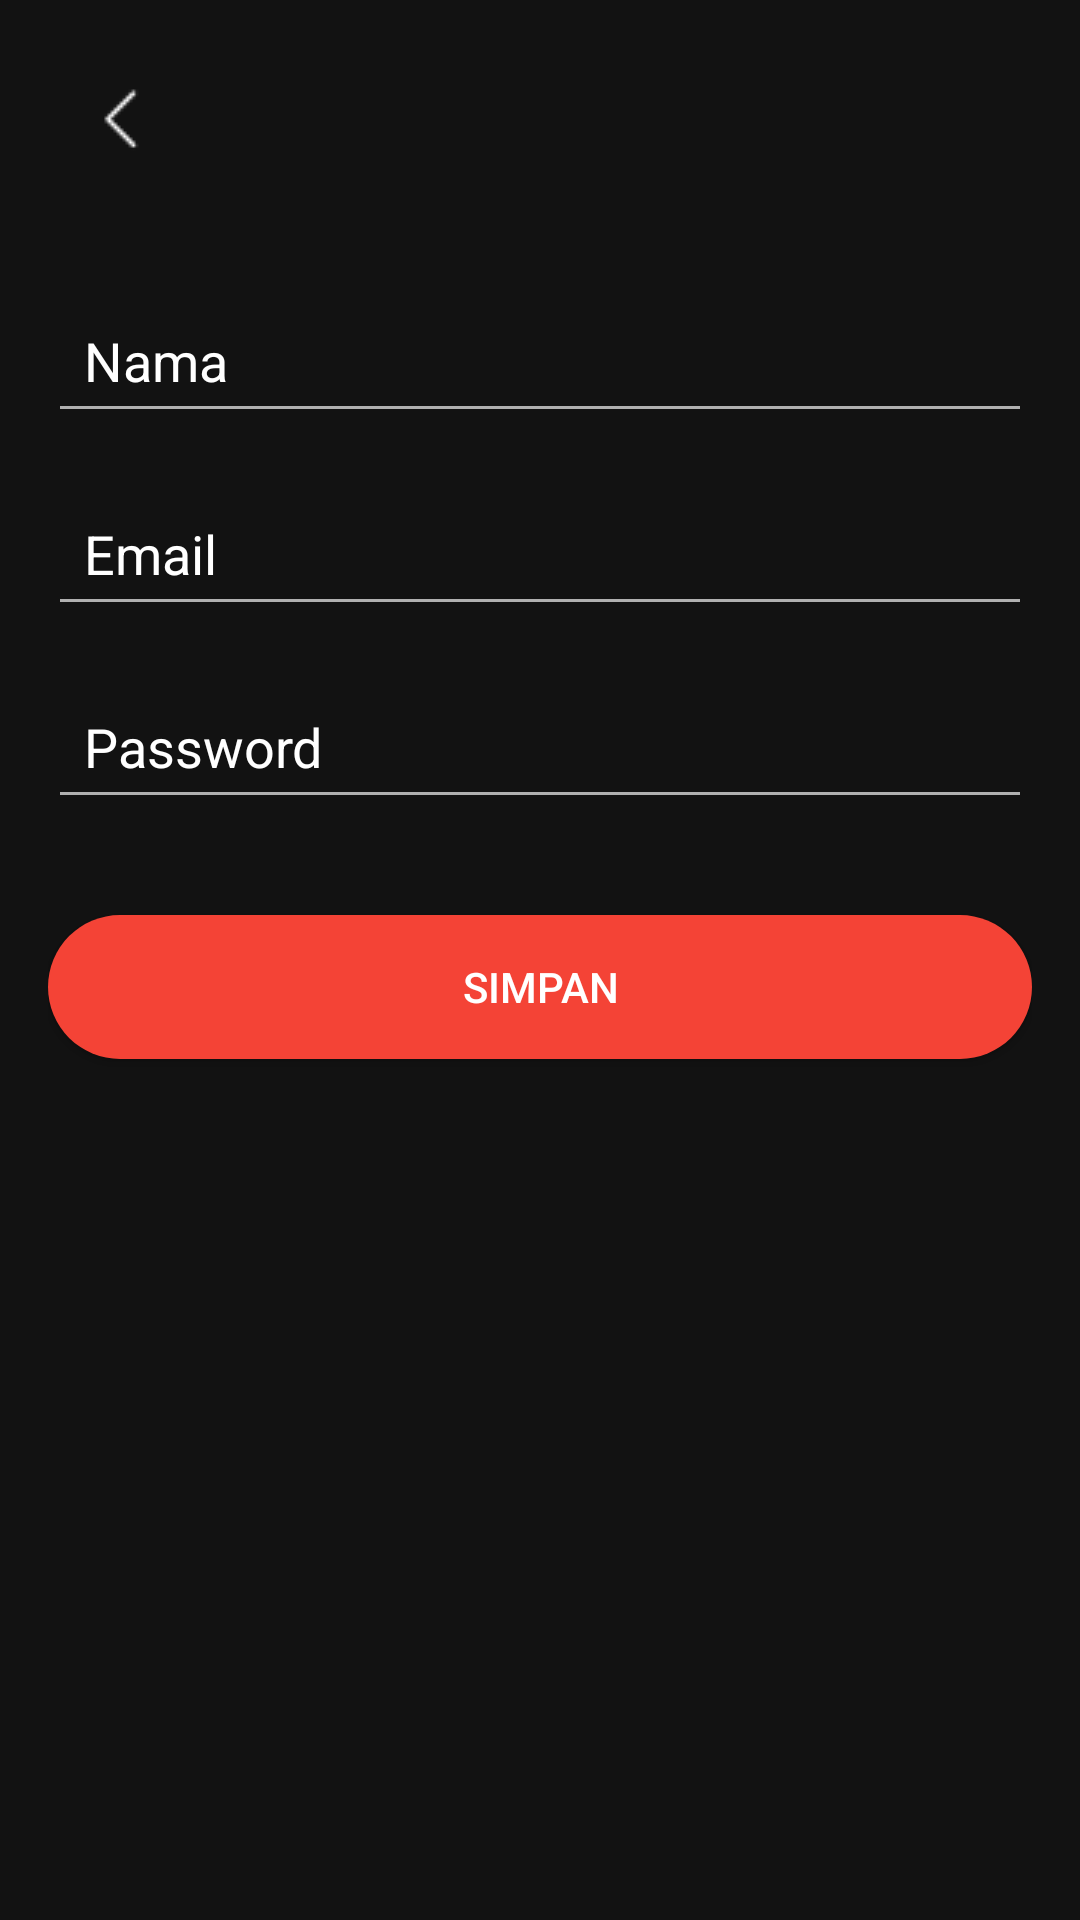

Named icons in this screenshot (1080 × 1920) and their bounding boxes, (x1, y1, x2, y2):
Back Button: (104, 89, 137, 148)
